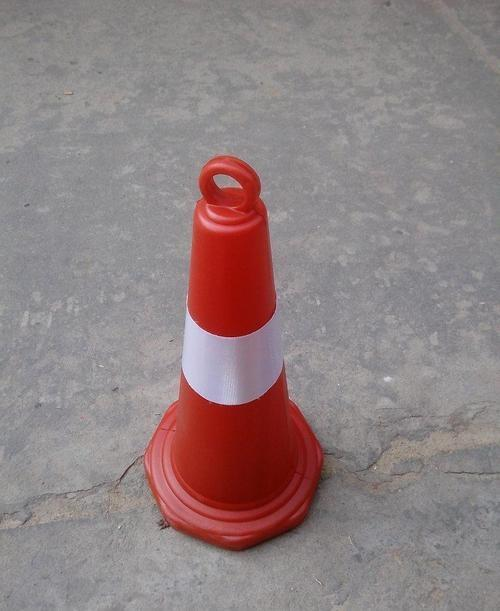cone_barrel: (134, 154, 323, 545)
